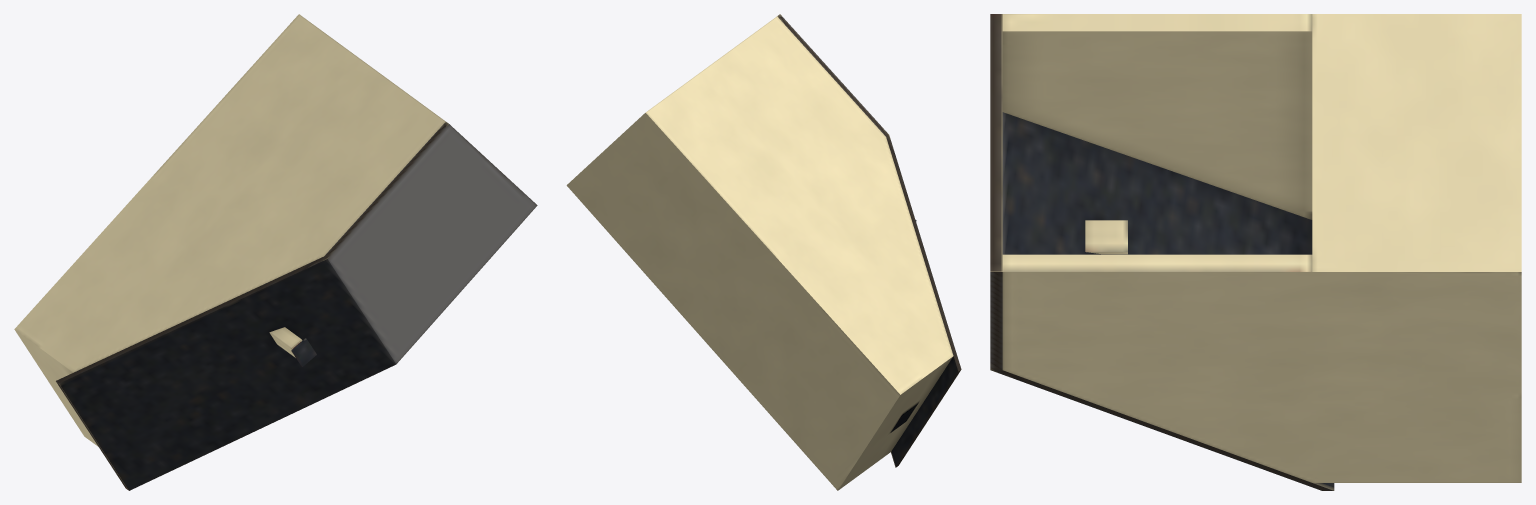
File: house_b0312.obj
The picture shows the model from 3 angles, left to right: view 1: azimuth 30°, elevation 25°; view 2: azimuth 150°, elevation 25°; view 3: azimuth 270°, elevation 25°; orthographic projection. The views are drawn at different scales.
Parts seen in each view (by area): view 1: house_b0312; view 2: house_b0312; view 3: house_b0312.
Part boxes in pixels (box(x1,y1,x2,y2)): house_b0312: box(14, 14, 537, 490); house_b0312: box(566, 14, 961, 490); house_b0312: box(990, 14, 1521, 490).
Bounding box in the file's own units: 15.38 × 14.53 × 10.41.
1 material, 1 textured.
